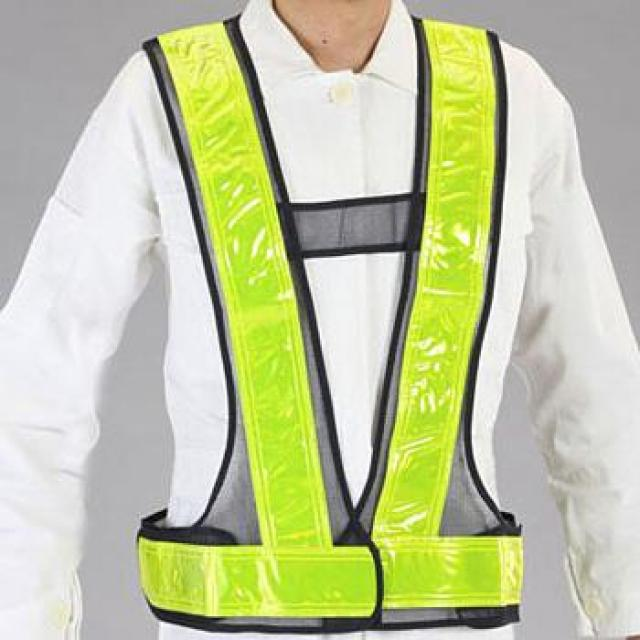Reflective-Jacket: (79, 0, 596, 640)
